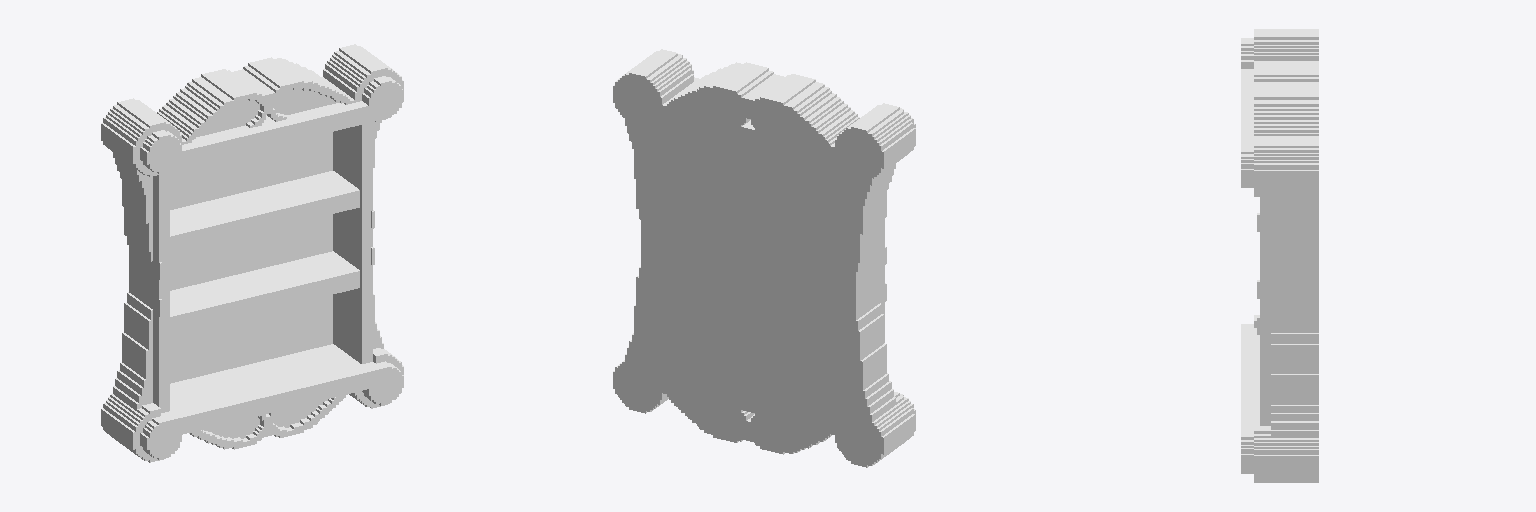
File: PotionShelf-8.obj
The picture shows the model from 3 angles: view 1: azimuth 30°, elevation 25°; view 2: azimuth 150°, elevation 25°; view 3: azimuth 270°, elevation 25°; orthographic projection.
Visible parts, largest first — view 1: object 1; view 2: object 1; view 3: object 1.
Boxes of the visible parts, box(x1,y1,x2,y2) form: object 1: box(101, 44, 403, 462); object 1: box(613, 49, 915, 467); object 1: box(1241, 29, 1318, 482).
Size of the model in its own units: 11.6 by 14.4 by 2.9.